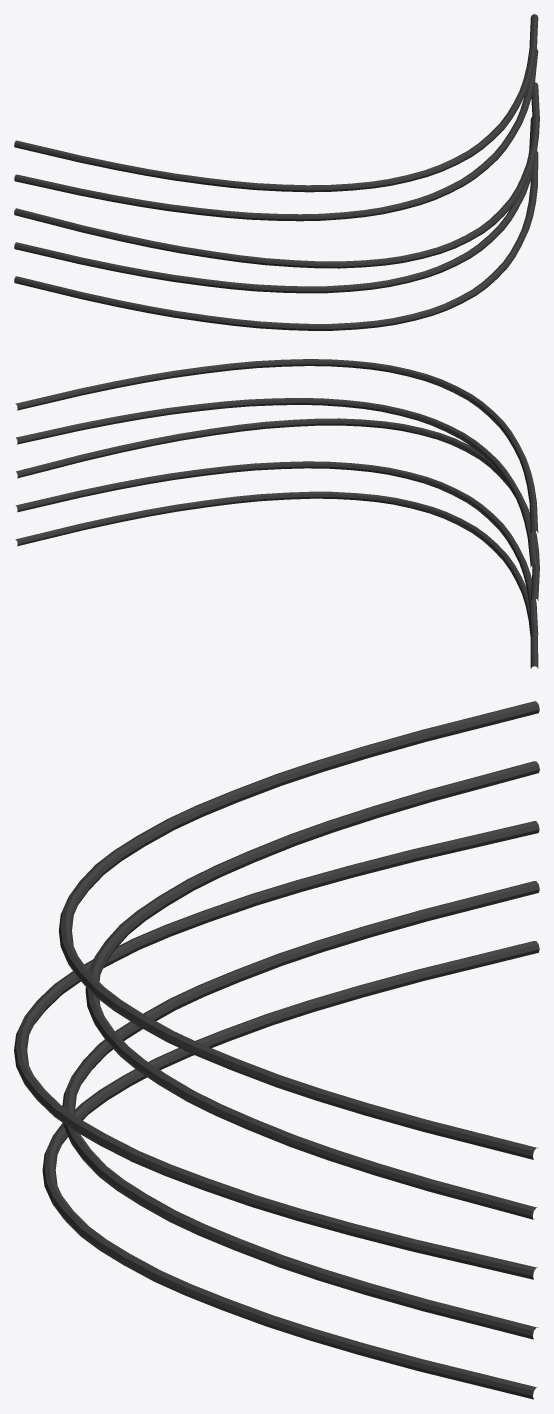
3 renders of one model, top to bottom at view 1: azimuth 30°, elevation 25°; view 2: azimuth 150°, elevation 25°; view 3: azimuth 270°, elevation 25°, orthographic. The views are drawn at different scales.
Visible parts, largest first — view 1: world; view 2: world; view 3: world.
Boxes of the visible parts, box(x1,y1,x2,y2) form: world: box(14, 14, 539, 330); world: box(15, 359, 539, 668); world: box(14, 701, 539, 1399).
Size of the model in its own units: 32.35 by 8.4 by 15.92.
Materials: 1 (1 with a texture image).
